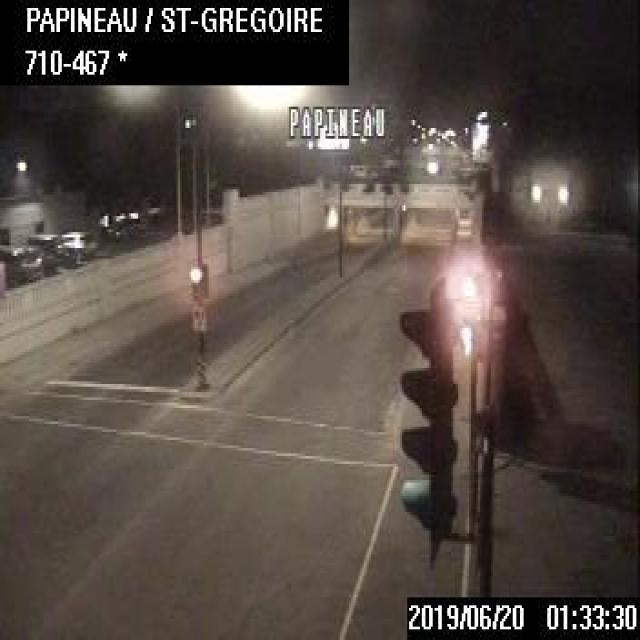vehicle: (0, 236, 45, 284), (26, 231, 61, 271), (59, 230, 90, 252)
